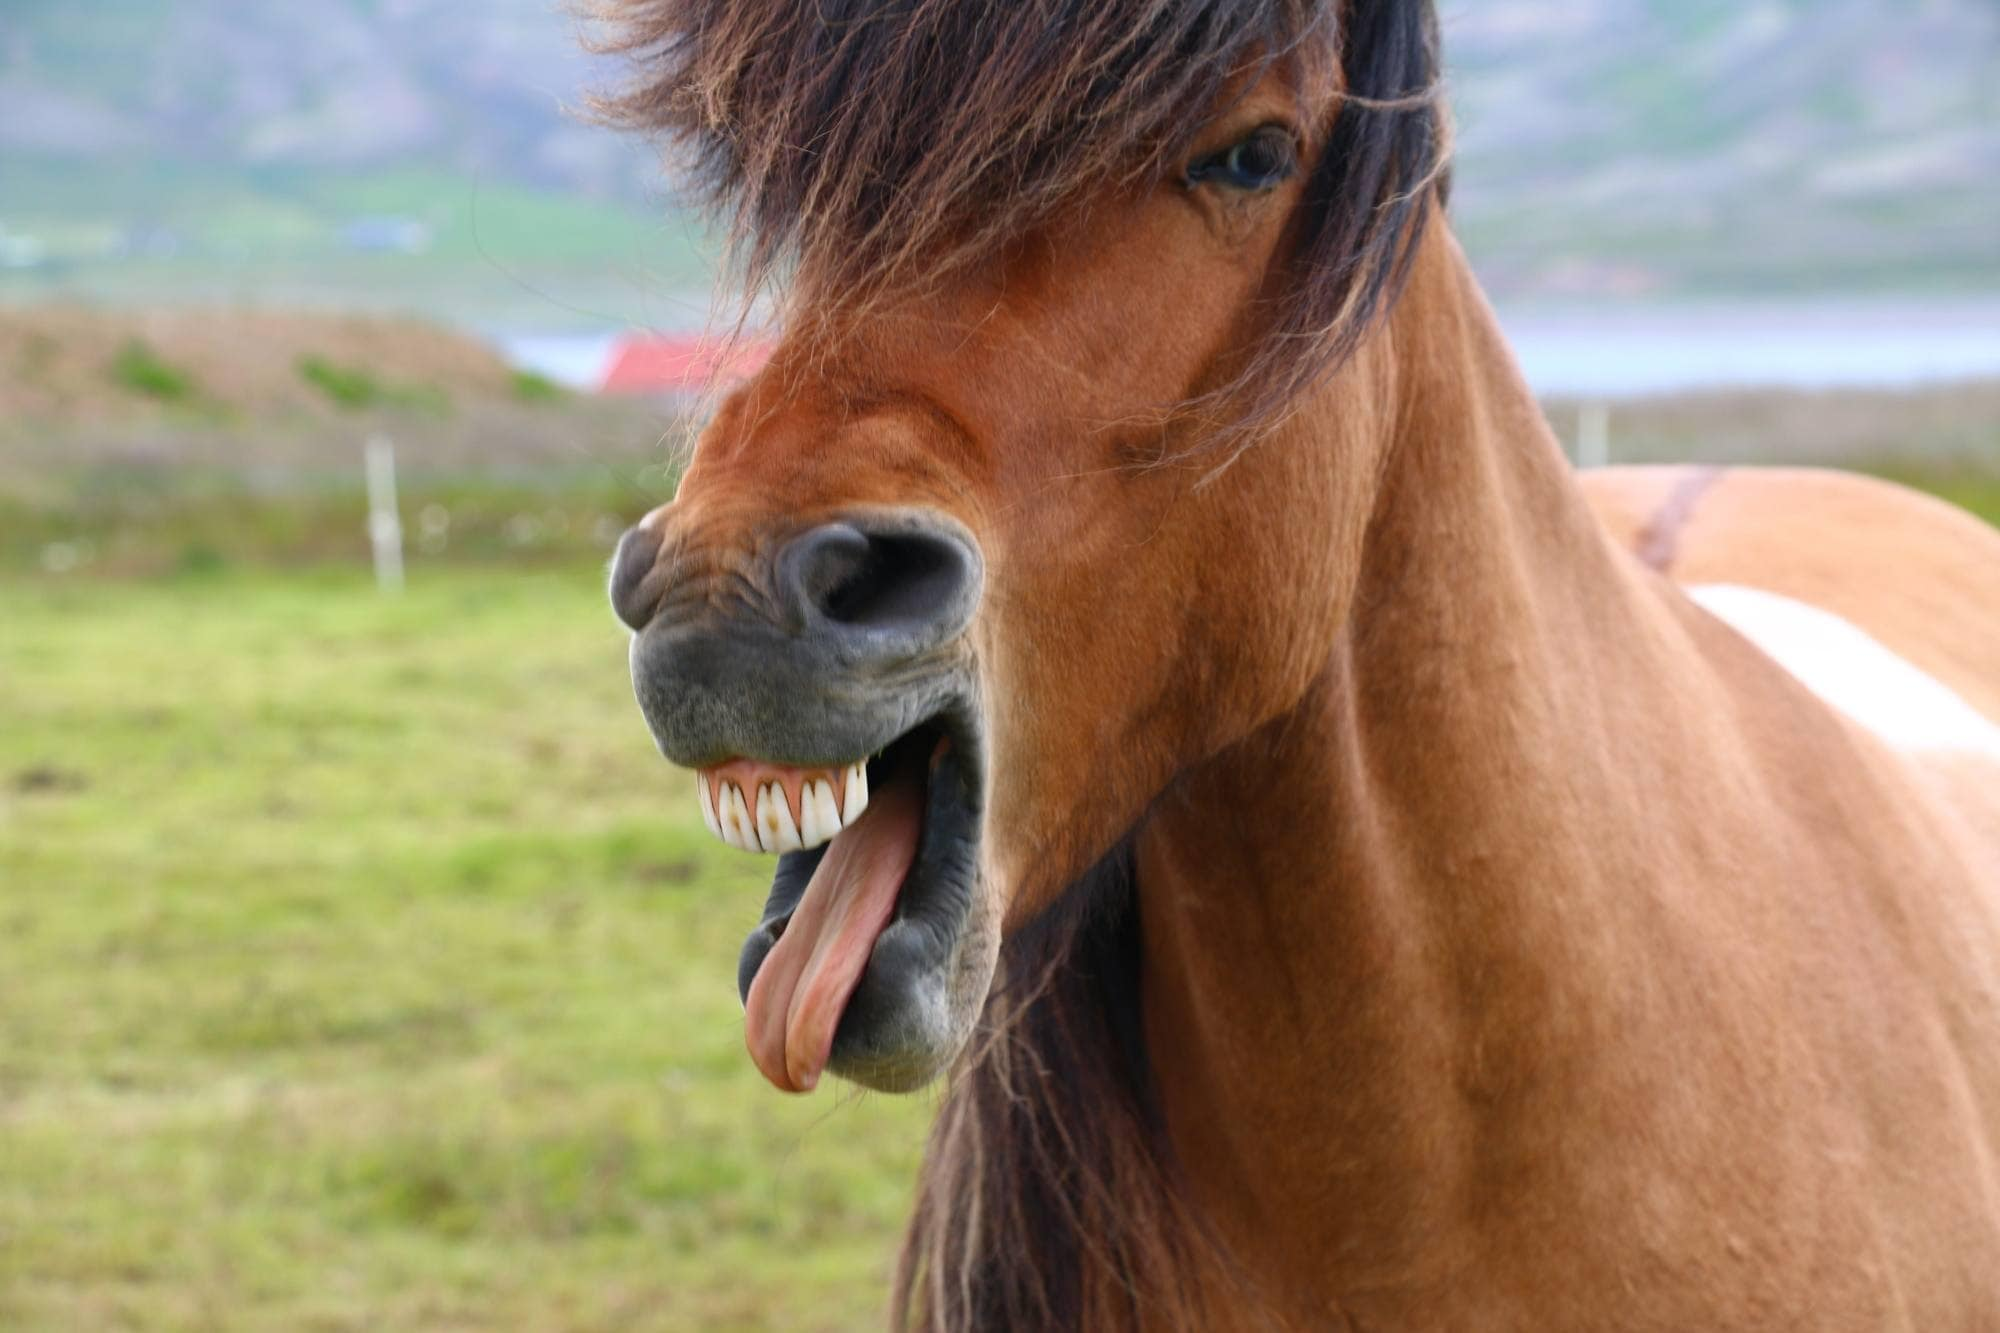Horse: (387, 39, 1943, 1317)
